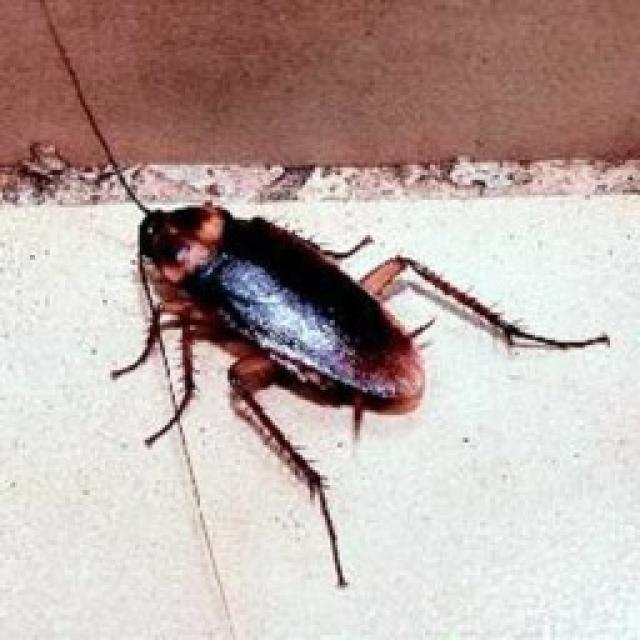cockroach: (136, 201, 432, 415)
